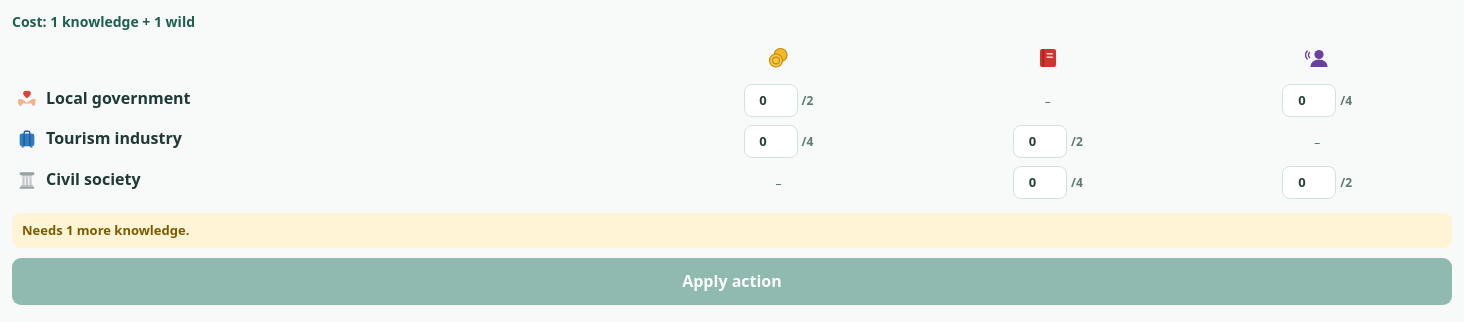
Test: FundingForm › keeps the action disabled and says what is missing until the payment is exact
Expected: the button "Apply action" is disabled, [12, 258, 1452, 305]
Expected: the message reads "Needs 1 more knowledge.", [22, 221, 189, 239]
Type "1" into the number field named "Civil Society pays knowledge" at {"x": 1040, "y": 183}, box [1013, 166, 1067, 199]
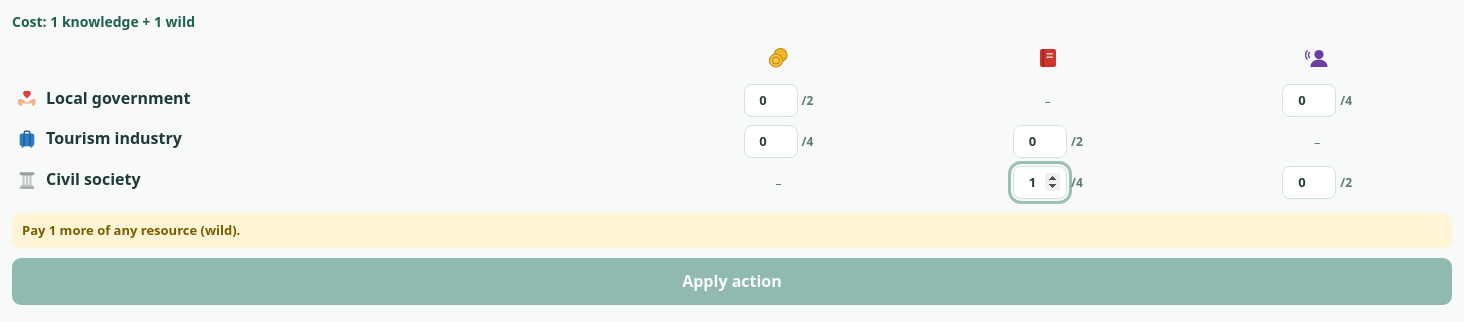
Expected: the button "Apply action" is disabled, [12, 258, 1452, 305]
Now the message reads "Pay 1 more of any resource (wild).", box [22, 221, 240, 239]
Type "1" into the number field named "Tourism Industry pays money" at {"x": 770, "y": 142}, box [744, 125, 798, 158]
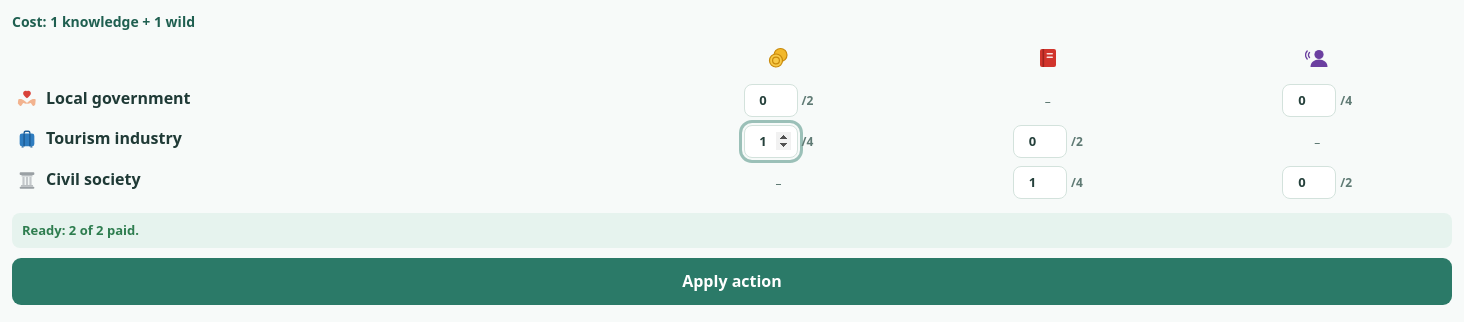
Now the message reads "Ready: 2 of 2 paid.", box [22, 221, 139, 239]
Now the button "Apply action" is enabled, box [12, 258, 1452, 305]
